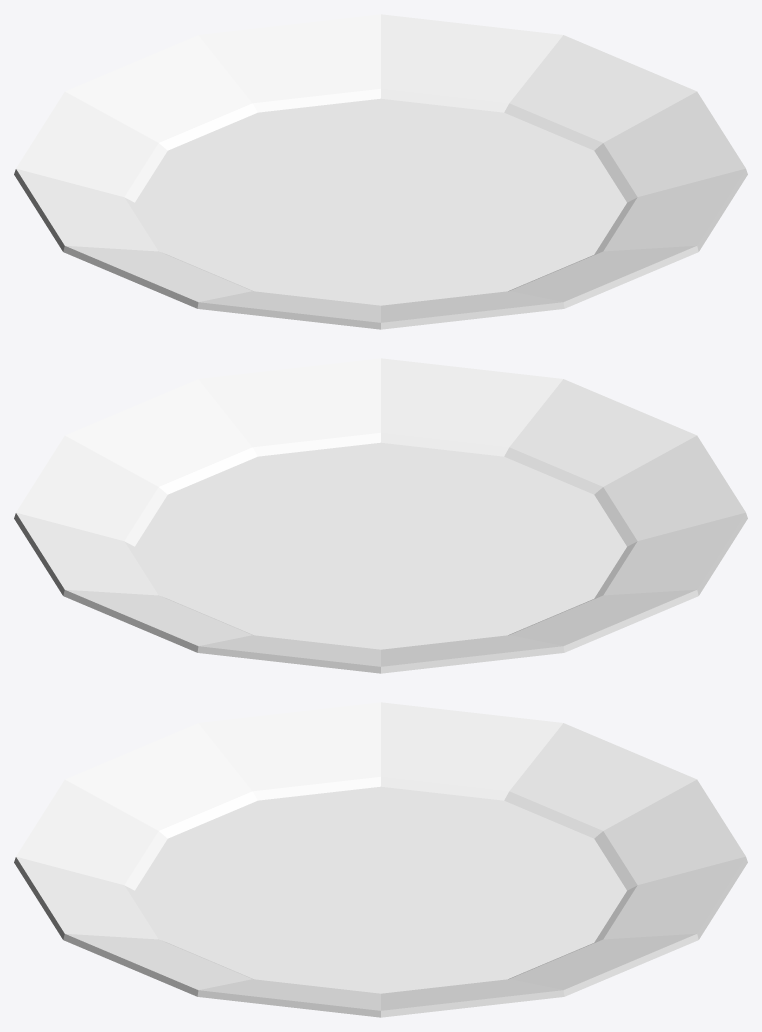
File: prop_plate_flat.fbx
The picture shows the model from 3 angles, top to bottom: view 1: azimuth 30°, elevation 25°; view 2: azimuth 150°, elevation 25°; view 3: azimuth 270°, elevation 25°; orthographic projection.
Visible parts, largest first — view 1: Flat Plate; view 2: Flat Plate; view 3: Flat Plate.
Part boxes in pixels (x1,y1,x2,y2): Flat Plate: (14, 14, 747, 329); Flat Plate: (14, 358, 747, 673); Flat Plate: (14, 702, 747, 1017).
Size of the model in its own units: 0.2667 by 0.0161 by 0.2667.
